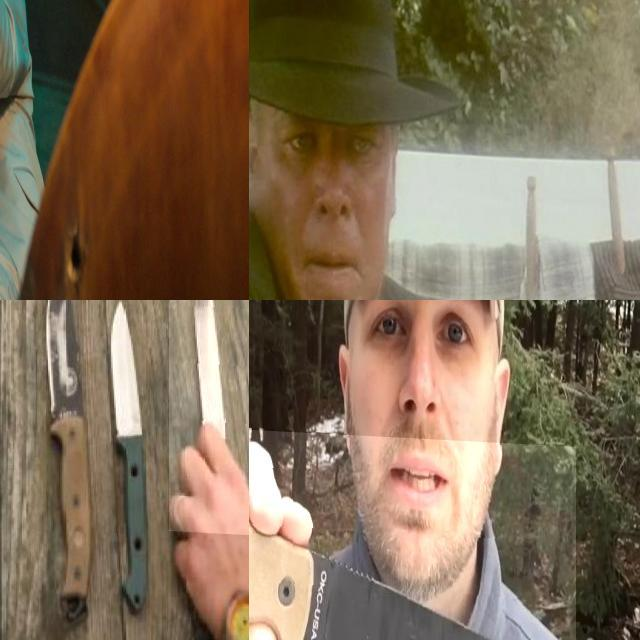-: (249, 426, 576, 640), (169, 300, 249, 530), (37, 300, 96, 467), (103, 300, 156, 478)
gun-knife-thesis - v11 Yolov5 augmented: (0, 0, 21, 81)
